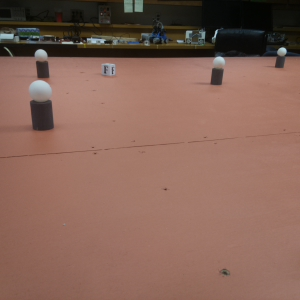obstacle: (28, 81, 58, 131), (35, 49, 51, 80), (210, 57, 225, 85), (275, 45, 286, 70)
